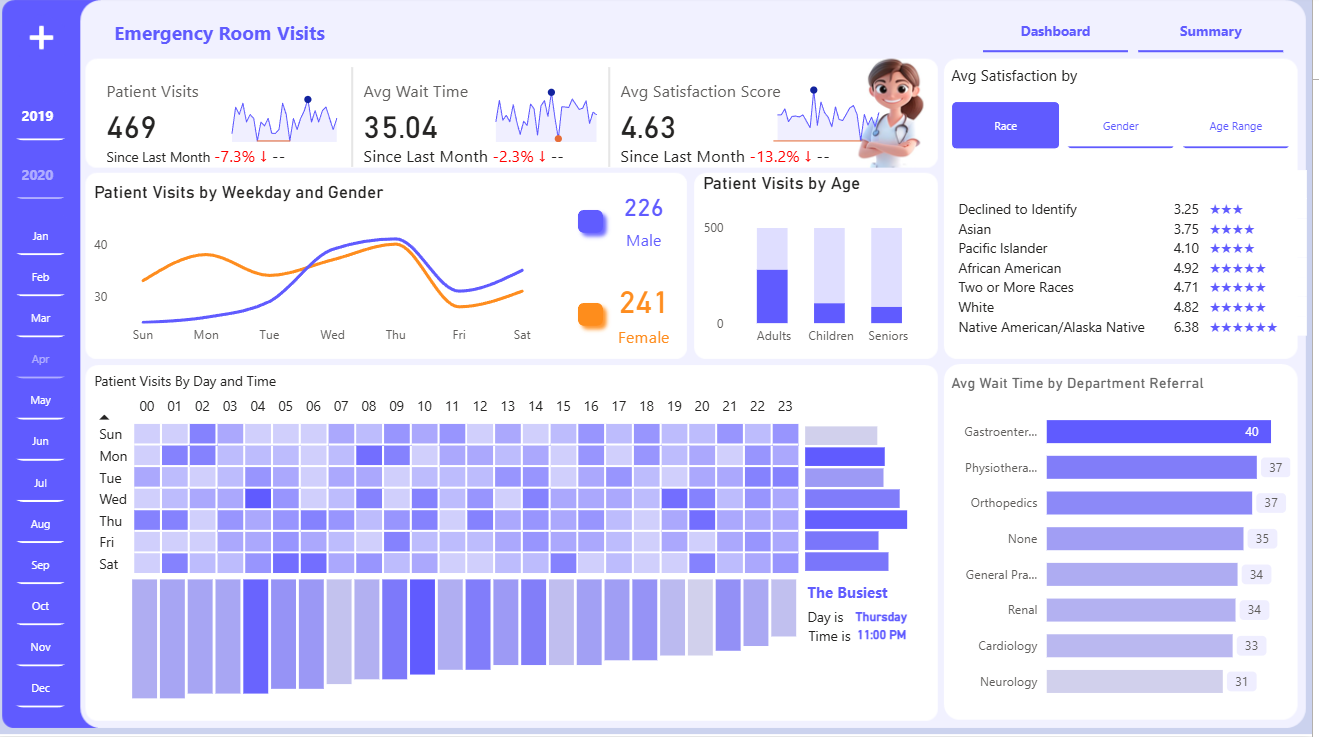

What the dashboard file says about the page in this screenshot:
{"tool":"powerbi","page":{"name":"Dashboard","canvas":[1280,720],"ordinal":0},"visuals":[{"type":"advancedSlicerVisual","fields":{"Values":["Calendar.Year"]},"box":[7.2,86.6,73.2,116.6],"z":0},{"type":"advancedSlicerVisual","fields":{"Values":["Calendar.Month"]},"box":[6.8,207.2,73.9,490.2],"z":1000},{"type":"cardVisual","fields":{"Data":["Measures (2).Patient Visits","Measures (2).Avg Wait Time","Measures (2).Avg Satisfaction Score"]},"box":[90.6,64.6,753,107.3],"z":2000},{"type":"areaChart","fields":{"Y":["Measures (2).Patient Visits","Measures (2).Patient Max Value","Measures (2).Patient Min Value"],"Category":["Calendar.Day"]},"box":[211.4,71.9,135.4,75],"z":3000},{"type":"areaChart","fields":{"Y":["Measures (2).Avg Wait Time","Measures (2).Avg Wait Time Max Value","Measures (2).Avg Wait Time Min Value"],"Category":["Calendar.Day"]},"box":[467.6,71.9,131.2,75],"z":4000},{"type":"areaChart","fields":{"Y":["Measures (2).Avg Satisfaction Score","Measures (2).Avg Satisfaction Max Value","Measures (2).Avg Satisfaction Min Value"],"Category":["Calendar.Day"]},"box":[738.4,71.9,135.4,75],"z":5000},{"type":"lineChart","fields":{"Y":["Measures (2).Patient Visits"],"Category":["Calendar.Weekday"],"Series":["Hospital ER.Gender"]},"box":[90.6,181.2,451,166.6],"z":6000},{"type":"card","fields":{"Values":["Measures (2).Patient Visits"]},"box":[588.4,181.2,83.3,68.7],"z":7000},{"type":"card","fields":{"Values":["Measures (2).Patient Visits"]},"box":[588.4,264.5,83.3,83.3],"z":8000},{"type":"shape","box":[557.2,198.9,41.7,39.6],"z":9000},{"type":"shape","box":[557.2,289.5,41.7,39.6],"z":10000},{"type":"clusteredColumnChart","title":"Patient Visits by Age ","fields":{"Y":["Measures (2).Patient Visits","Measures (2).patient visits dummy"],"Category":["Hospital ER.Age Range"]},"box":[683.2,171.8,229.1,176],"z":11000},{"type":"tableEx","fields":{"Values":["Hospital ER.Race","Measures (2).Avg Satisfaction Score","Measures (2).Score Rating"]},"box":[925.2,164,354.8,183.6],"z":12000},{"type":"advancedSlicerVisual","fields":{"Values":["sat_param.sat_param"]},"box":[925.2,98,339.3,55.7],"z":13000},{"type":"clusteredBarChart","fields":{"Y":["Measures (2).Avg Wait Time"],"Category":["Hospital ER.Department Referral"]},"box":[924.2,368.2,340.4,329],"z":14000},{"type":"pivotTable","fields":{"Rows":["Calendar.Weekday"],"Columns":["Hospital ER.Hour"],"Values":["Measures (2).Patient Visits"]},"box":[90.8,383.7,698.3,187.7],"z":15000},{"type":"clusteredBarChart","fields":{"Category":["Calendar.Weekday"],"Y":["Measures (2).Patient Visits"]},"box":[781.8,405.4,131,158.8],"z":16000},{"type":"clusteredColumnChart","fields":{"Y":["Measures (2).Patient Visits"],"Category":["Hospital ER.Hour"]},"box":[127.9,553.9,656,158.8],"z":17000},{"type":"card","fields":{"Values":["Measures (2).Busiest Day"]},"box":[821,586.9,80.5,37.1],"z":18000},{"type":"card","fields":{"Values":["Measures (2).Busiest Time"]},"box":[815.9,604.4,90.8,38.2],"z":19000},{"type":"textbox","box":[783.9,564.2,103.1,35.1],"z":20000},{"type":"textbox","box":[783.9,588.9,63.9,32],"z":21000},{"type":"textbox","box":[784.9,607.5,62.9,33],"z":22000},{"type":"pageNavigator","box":[960.3,10.3,292.9,44.4],"z":23000},{"type":"image","box":[9.3,7.2,69.1,65],"z":24000},{"type":"textbox","box":[110.4,17.5,232.1,43.3],"z":25000},{"type":"textbox","box":[90.8,360,242.4,34],"z":26000},{"type":"textbox","box":[924.2,60.9,137.2,37.1],"z":27000}]}

Visuals, with their boxes in screenshot pixels (x1, y1, x2, y2), scaled from the page's 1280x720 canvas onto the 1319x737 screenshot:
advancedSlicerVisual - Calendar.Year: Rect(7, 89, 83, 208)
advancedSlicerVisual - Calendar.Month: Rect(7, 212, 83, 714)
cardVisual - Measures (2).Patient Visits x Measures (2).Avg Wait Time: Rect(93, 66, 869, 176)
areaChart - Measures (2).Patient Visits x Measures (2).Patient Max Value: Rect(218, 74, 357, 150)
areaChart - Measures (2).Avg Wait Time x Measures (2).Avg Wait Time Max Value: Rect(482, 74, 617, 150)
areaChart - Measures (2).Avg Satisfaction Score x Measures (2).Avg Satisfaction Max Value: Rect(761, 74, 900, 150)
lineChart - Measures (2).Patient Visits x Calendar.Weekday: Rect(93, 185, 558, 356)
card - Measures (2).Patient Visits: Rect(606, 185, 692, 256)
card - Measures (2).Patient Visits: Rect(606, 271, 692, 356)
shape: Rect(574, 204, 617, 244)
shape: Rect(574, 296, 617, 337)
"Patient Visits by Age " clusteredColumnChart: Rect(704, 176, 940, 356)
tableEx - Hospital ER.Race x Measures (2).Avg Satisfaction Score: Rect(953, 168, 1318, 356)
advancedSlicerVisual - sat_param.sat_param: Rect(953, 100, 1303, 157)
clusteredBarChart - Measures (2).Avg Wait Time x Hospital ER.Department Referral: Rect(952, 377, 1303, 714)
pivotTable - Calendar.Weekday x Hospital ER.Hour: Rect(94, 393, 813, 585)
clusteredBarChart - Calendar.Weekday x Measures (2).Patient Visits: Rect(806, 415, 941, 578)
clusteredColumnChart - Measures (2).Patient Visits x Hospital ER.Hour: Rect(132, 567, 808, 730)
card - Measures (2).Busiest Day: Rect(846, 601, 929, 639)
card - Measures (2).Busiest Time: Rect(841, 619, 934, 658)
textbox: Rect(808, 578, 914, 613)
textbox: Rect(808, 603, 874, 636)
textbox: Rect(809, 622, 874, 656)
pageNavigator: Rect(990, 11, 1291, 56)
image: Rect(10, 7, 81, 74)
textbox: Rect(114, 18, 353, 62)
textbox: Rect(94, 368, 343, 403)
textbox: Rect(952, 62, 1094, 100)
